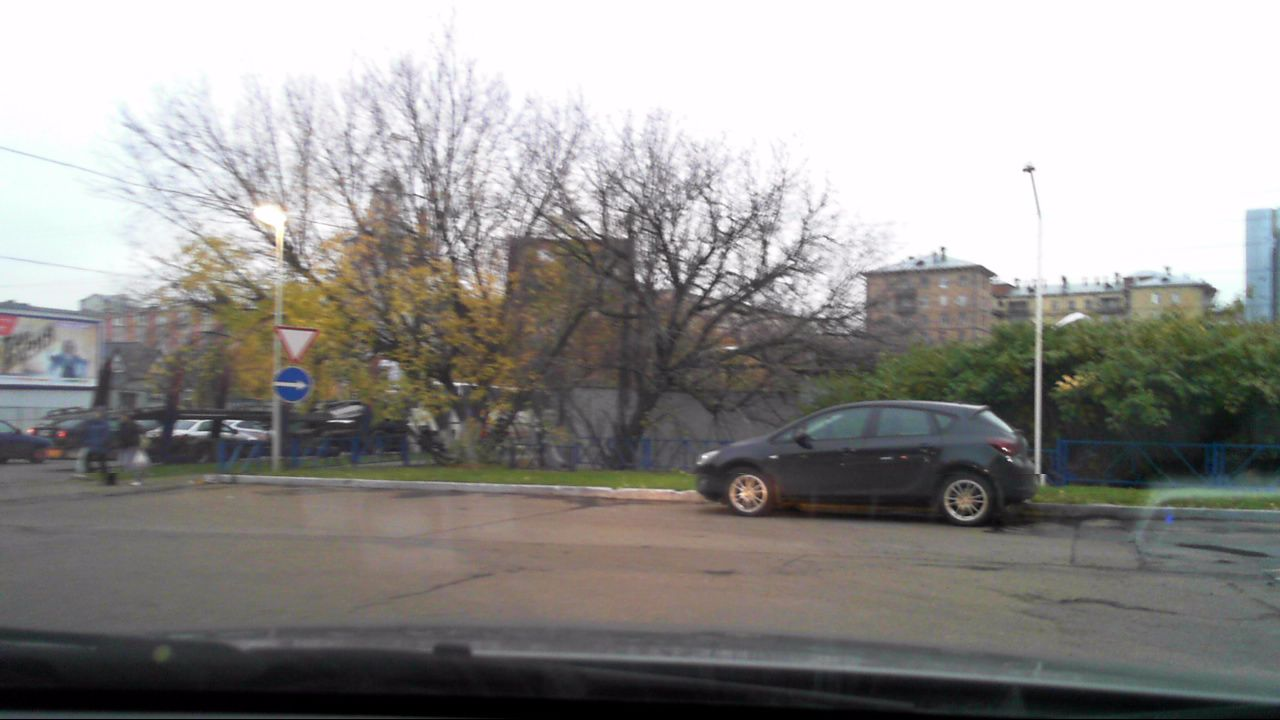Turn Right: (273, 367, 311, 402)
